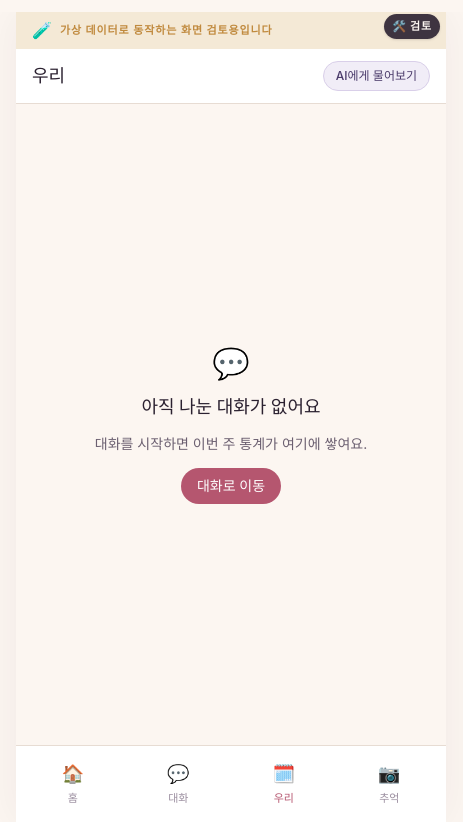
저장된 새 메시지를 주간 통계에 반영 (회귀) › 대화 0건 → 전송 후 우리 탭 통계가 새로고침 없이 갱신된다
expect the text "대화를 시작하면 이번 주 통계가 여기에 쌓여요." is shown: met, box [95, 433, 367, 456]
Click the button "💬 대화" at {"x": 178, "y": 783}, box [126, 754, 231, 812]
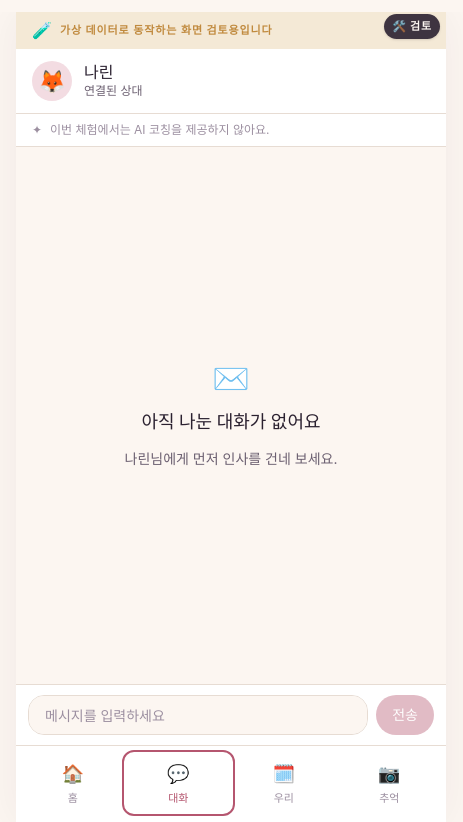
Type "첫 메시지" into the text box named "메시지 입력" at {"x": 198, "y": 714}, box [28, 694, 368, 734]
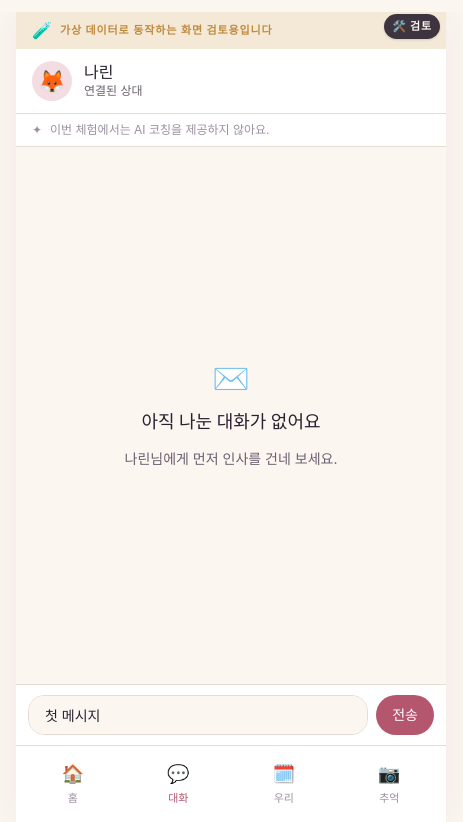
Click the button "전송" at {"x": 405, "y": 714}, box [376, 694, 434, 734]
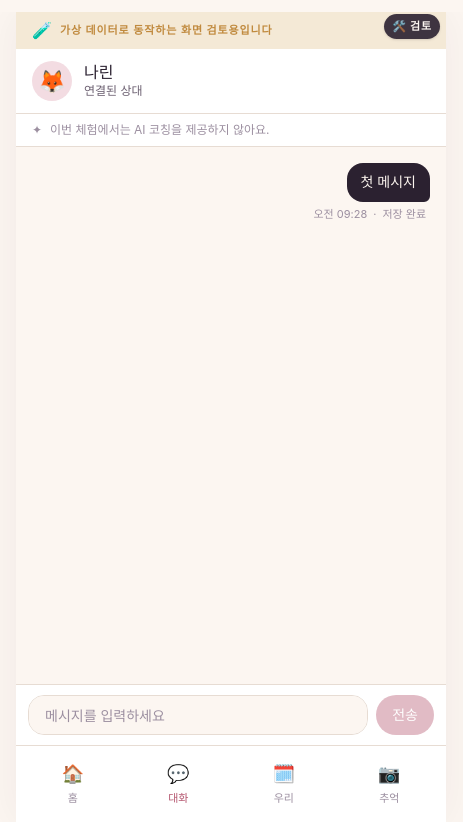
Click the button "🗓️ 우리" at {"x": 284, "y": 783}, box [231, 754, 336, 812]
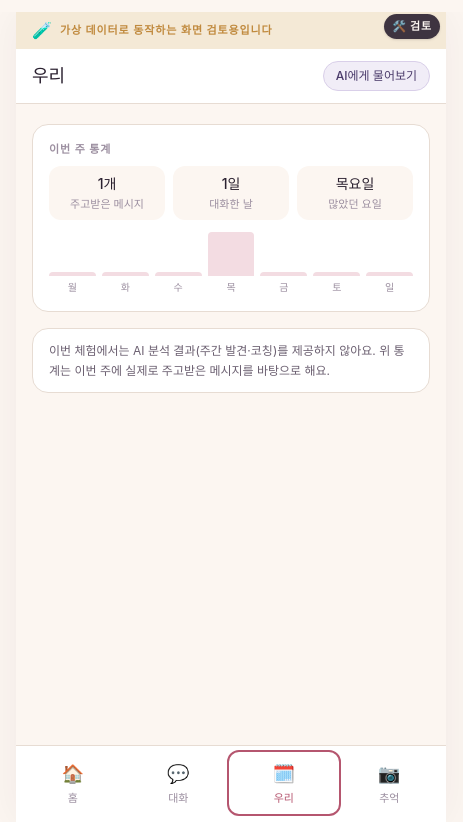
expect the text "대화를 시작하면 이번 주 통계가 여기에 쌓여요." is not shown: met
expect the text "1개" is shown: met, box [98, 174, 116, 192]
